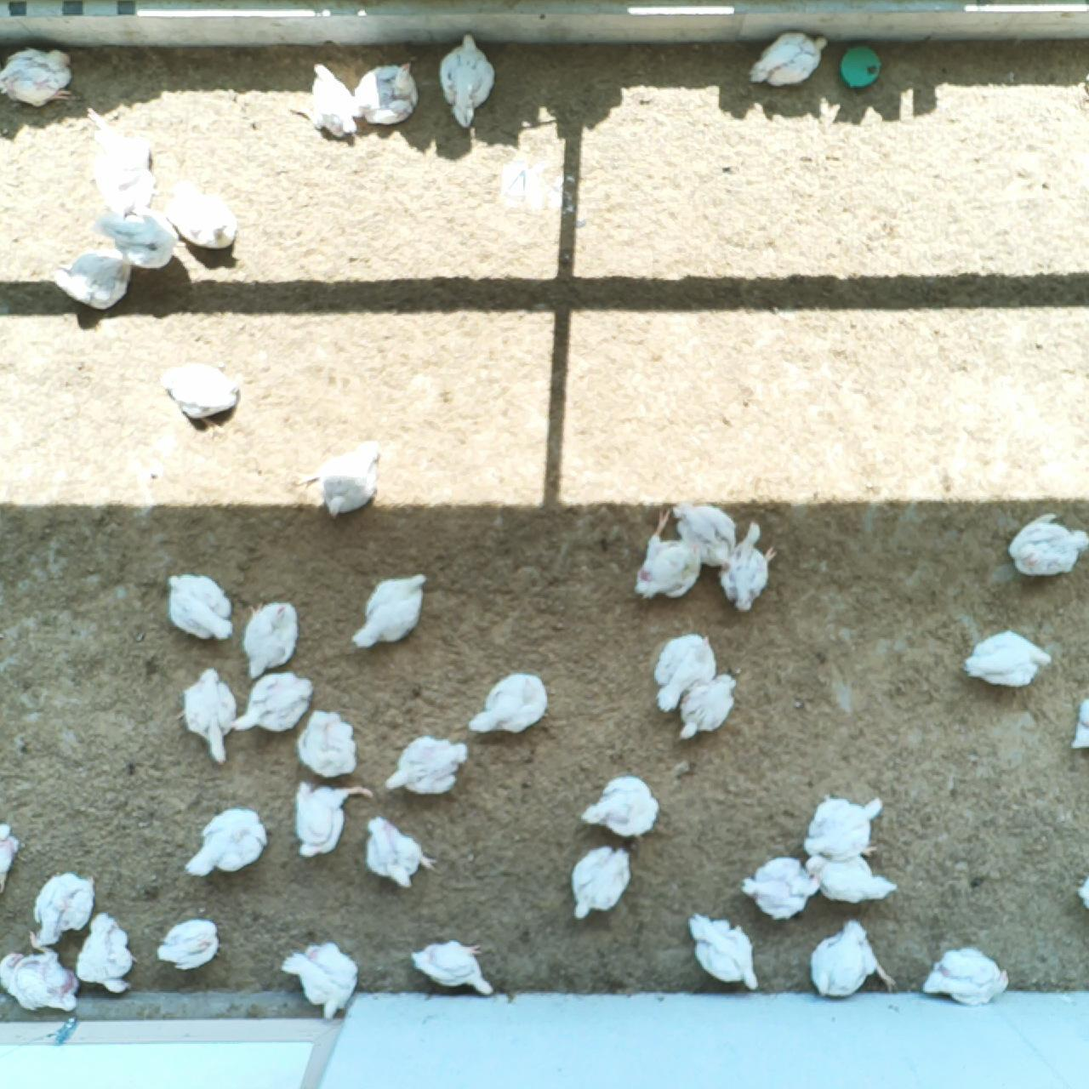chicken: (77, 105, 159, 217), (809, 917, 901, 1005), (292, 436, 385, 520), (276, 938, 361, 1022), (0, 927, 78, 1018), (683, 905, 764, 992), (351, 569, 435, 652), (633, 508, 706, 600), (228, 669, 315, 743), (359, 812, 438, 892), (293, 780, 372, 860), (182, 808, 271, 879), (464, 669, 553, 740), (159, 173, 240, 251), (918, 942, 1012, 1009), (799, 848, 901, 909), (717, 519, 780, 617), (436, 31, 497, 131), (180, 665, 241, 765), (652, 632, 723, 717), (799, 794, 889, 861), (48, 245, 134, 313), (736, 854, 822, 921), (27, 871, 98, 952), (1007, 509, 1089, 579), (382, 735, 473, 798), (92, 204, 177, 270), (960, 627, 1051, 688), (666, 499, 744, 570), (567, 845, 637, 924), (407, 937, 493, 1001), (157, 362, 244, 424), (293, 705, 363, 781), (580, 773, 658, 840), (74, 911, 135, 996), (165, 568, 234, 643), (351, 58, 422, 129), (239, 599, 299, 683), (0, 42, 75, 109), (673, 672, 740, 746), (750, 30, 830, 91), (305, 62, 361, 141), (155, 917, 222, 975), (0, 817, 23, 913), (1073, 693, 1089, 763), (1075, 867, 1089, 921)
